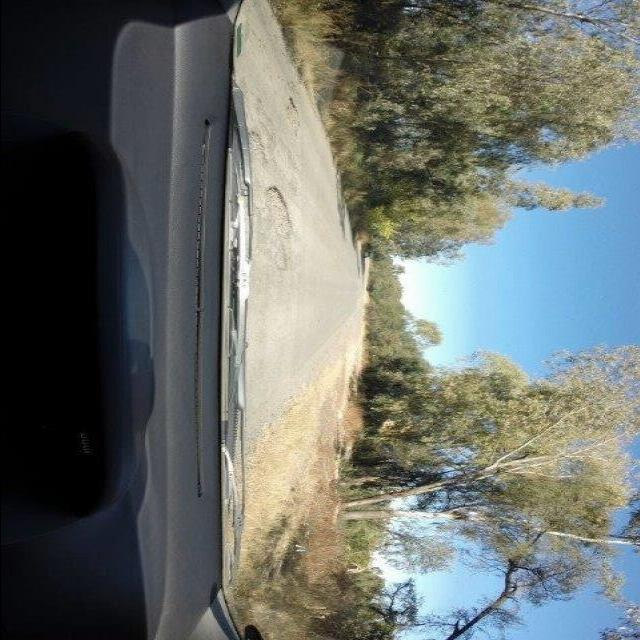lubang: (261, 184, 295, 242), (281, 88, 304, 144), (249, 123, 273, 168), (272, 242, 291, 276)
